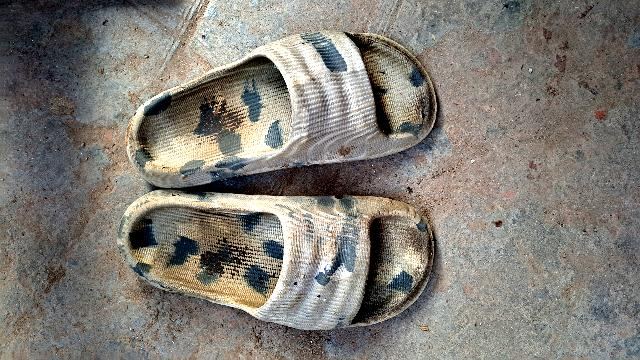sandal: (121, 157, 421, 349), (128, 18, 427, 201)
